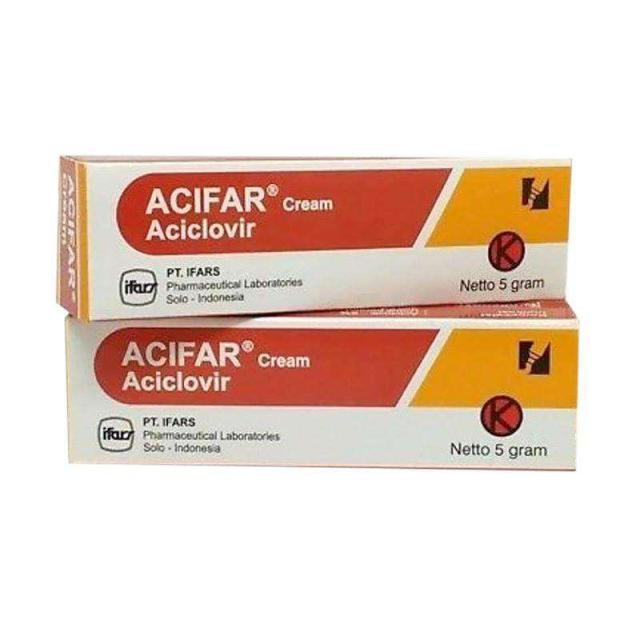drug-name: (147, 178, 277, 216)
